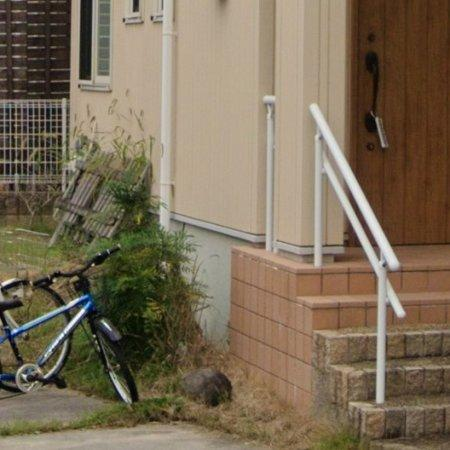stairs: (230, 245, 450, 450)
